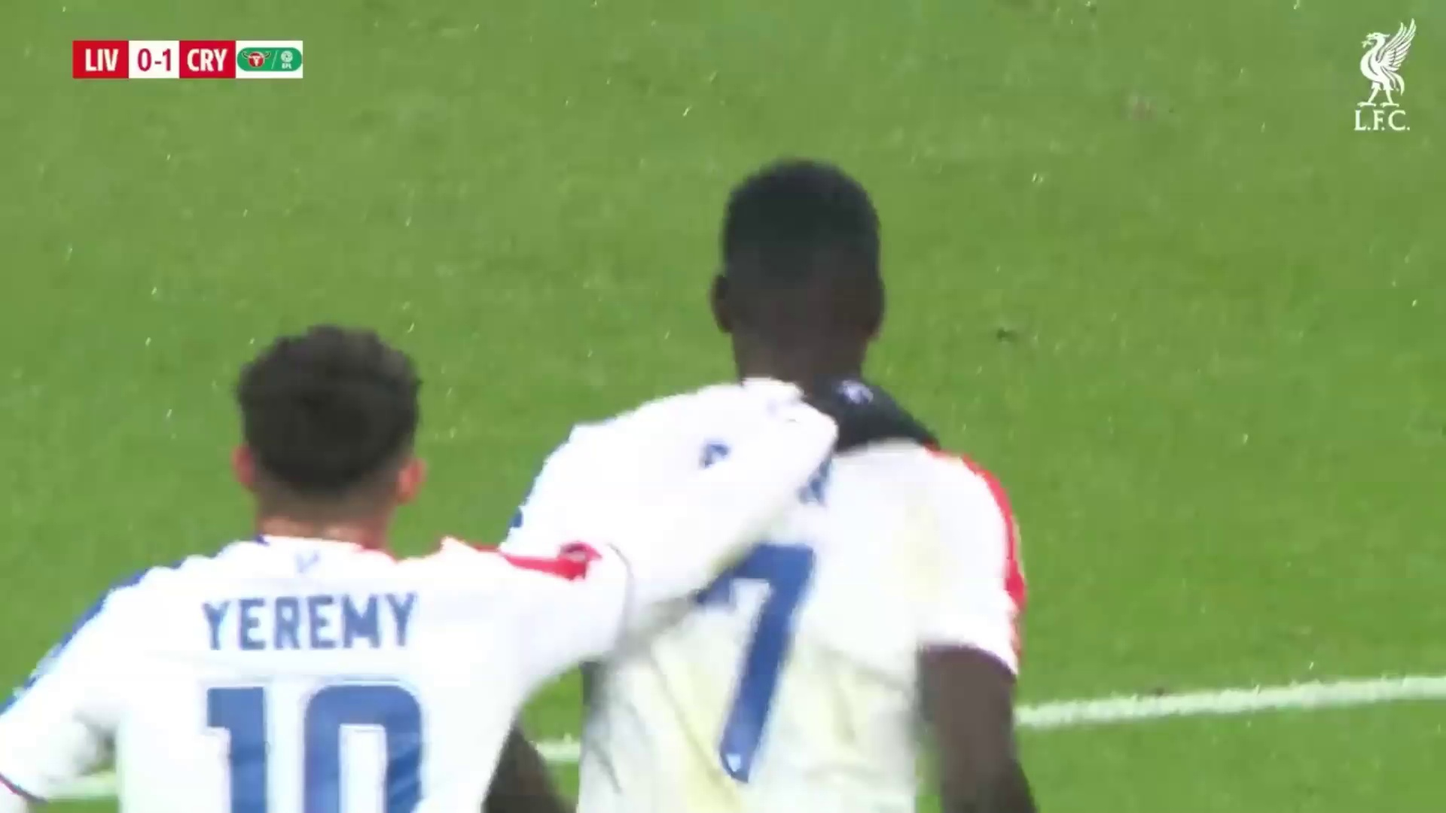player: (0, 331, 833, 806), (574, 155, 1041, 805)
